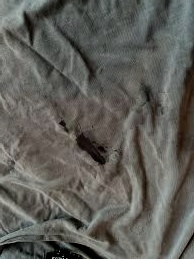oil: (55, 115, 110, 173)
